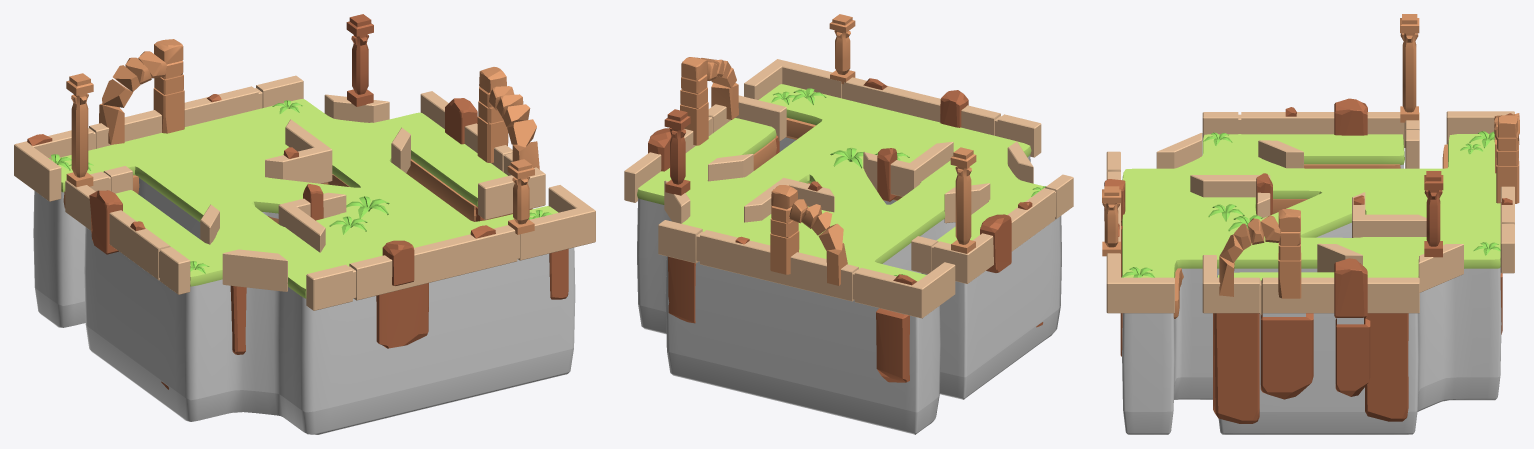
The model's file is arenaMap.fbx.
The picture shows the model from 3 angles, left to right: view 1: azimuth 30°, elevation 25°; view 2: azimuth 150°, elevation 25°; view 3: azimuth 270°, elevation 25°; orthographic projection. The views are drawn at different scales.
Parts seen in each view (by area): view 1: Plane.012, Plane.001, Plane, Plane.003, Plane.024, Plane.025, Plane.031, Plane.023, Plane.049, Plane.008, Plant1__4_.007, Plane.009 (+2 smaller); view 2: Plane.012, Plane, Plane.001, Plane.003, Plane.024, Plane.025, Plane.031, Plane.023, Plane.008, Plane.049, Plant1__4_.007, Plane.009 (+2 smaller); view 3: Plane.001, Plane.012, Plane, Plane.024, Plane.025, Plane.031, Plane.003, Plane.018, Plane.023, Plant1__4_.007, Plane.008, Plane.049.
Part boxes in pixels (x1=…): Plane.012: x1=33, y1=178, x2=575, y2=434; Plane.001: x1=52, y1=99, x2=558, y2=298; Plane: x1=14, y1=75, x2=595, y2=310; Plane.003: x1=99, y1=39, x2=184, y2=144; Plane.024: x1=161, y1=206, x2=568, y2=389; Plane.025: x1=477, y1=67, x2=539, y2=169; Plane.031: x1=66, y1=73, x2=534, y2=234; Plane.023: x1=346, y1=14, x2=373, y2=106; Plane.049: x1=63, y1=159, x2=476, y2=223; Plane.008: x1=89, y1=190, x2=122, y2=254; Plant1__4_.007: x1=49, y1=100, x2=552, y2=234; Plane.009: x1=382, y1=240, x2=414, y2=285; Plane.012: x1=637, y1=137, x2=1061, y2=434; Plane: x1=624, y1=59, x2=1073, y2=318; Plane.001: x1=637, y1=84, x2=1043, y2=281; Plane.003: x1=770, y1=185, x2=847, y2=285; Plane.024: x1=668, y1=135, x2=1043, y2=382; Plane.025: x1=680, y1=57, x2=738, y2=145; Plane.031: x1=829, y1=14, x2=976, y2=253; Plane.023: x1=664, y1=109, x2=690, y2=195; Plane.008: x1=980, y1=214, x2=1011, y2=272; Plane.049: x1=753, y1=117, x2=902, y2=200; Plant1__4_.007: x1=771, y1=88, x2=915, y2=280; Plane.009: x1=940, y1=90, x2=968, y2=127; Plane.001: x1=1122, y1=134, x2=1500, y2=280; Plane.012: x1=1122, y1=164, x2=1501, y2=434; Plane: x1=1106, y1=111, x2=1514, y2=315; Plane.024: x1=1120, y1=222, x2=1502, y2=423; Plane.025: x1=1219, y1=209, x2=1301, y2=298; Plane.031: x1=1102, y1=14, x2=1419, y2=256; Plane.003: x1=1494, y1=113, x2=1519, y2=203; Plane.018: x1=1334, y1=258, x2=1367, y2=317; Plane.023: x1=1424, y1=171, x2=1443, y2=257; Plant1__4_.007: x1=1121, y1=131, x2=1500, y2=277; Plane.008: x1=1334, y1=98, x2=1367, y2=135; Plane.049: x1=1173, y1=144, x2=1447, y2=318.
Size of the model in its own units: 22957 by 17415 by 23089.
